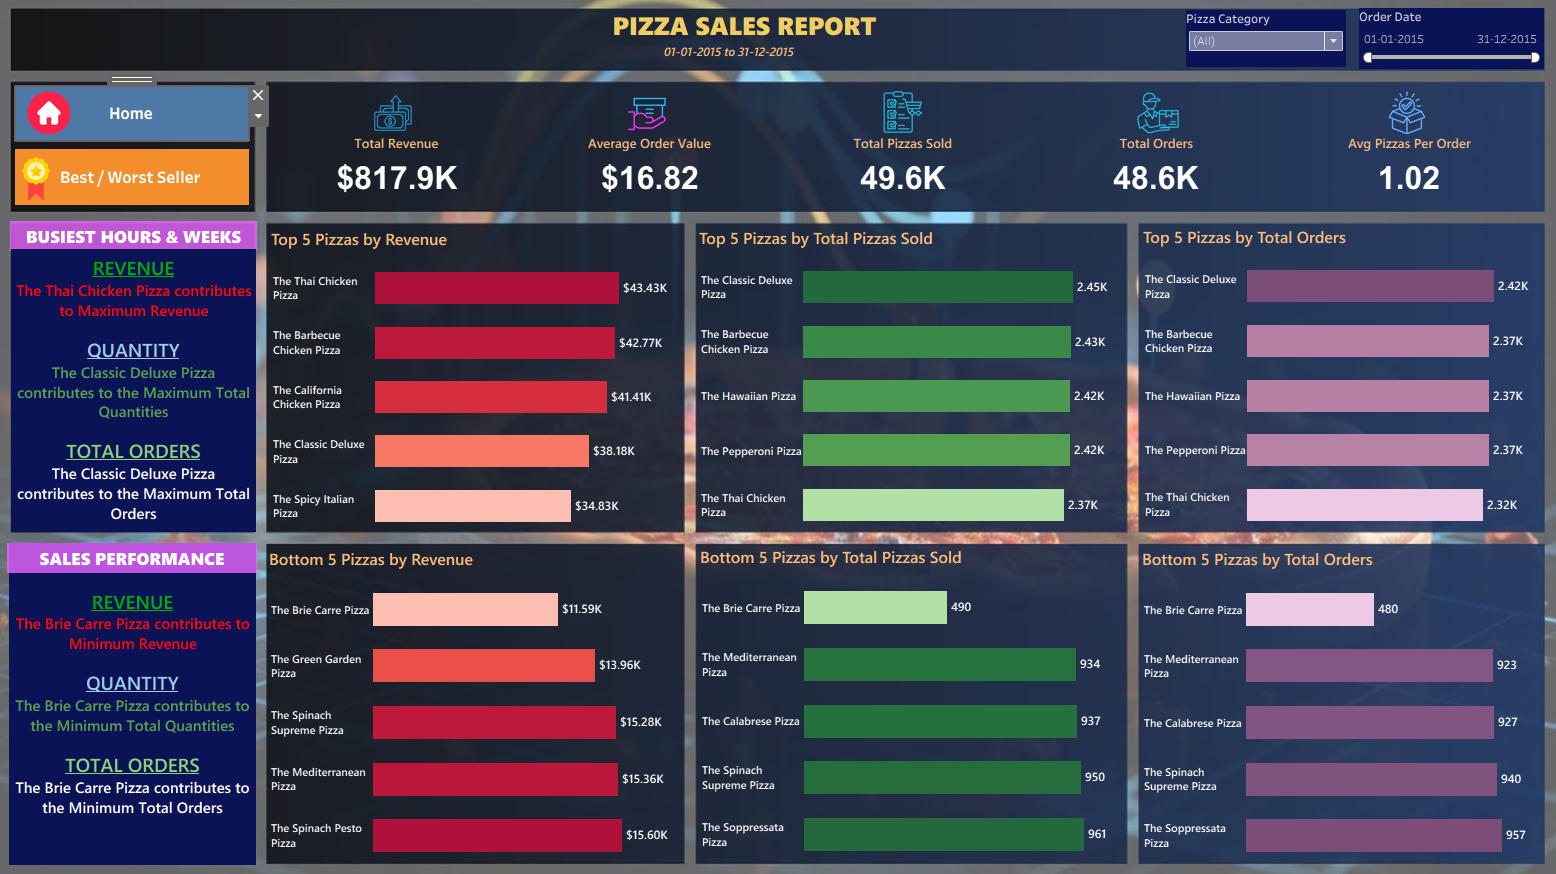

Layout of this report page (visuals, bound fields, positions):
{"tool":"tableau","page":{"name":"Best / Worst Sellers","canvas":[1600,900],"ordinal":0},"visuals":[{"type":"image","param":"Image/Pizza Tableau 2.jpg","box":[8,8,1584,884]},{"type":"text","box":[631,21,269,34]},{"type":"filter","title":"Date Range","param":"[federated.1yrtyvt0a6v30914oj9sl08k3q2n].[none:order_date:qk]","box":[1380,21,185,61]},{"type":"filter","title":"Date Range","param":"[federated.1yrtyvt0a6v30914oj9sl08k3q2n].[none:pizza_category:nk]","box":[1207,23,160,57]},{"type":"worksheet","title":"Date Range","mark":"Automatic","box":[483,53,533,24]},{"type":"dashboard-object","box":[37,100,232,53]},{"type":"image","param":"Image/order-delivery.png","box":[900,103,48,43]},{"type":"image","param":"Image/home (1).png","box":[46,104,48,43]},{"type":"image","param":"Image/profit-growth.png","box":[390,104,48,43]},{"type":"image","param":"Image/delivery-man.png","box":[1155,104,48,43]},{"type":"image","param":"Image/order (1).png","box":[1404,104,48,43]},{"type":"image","param":"Image/shipping-box.png","box":[644,105,48,43]},{"type":"worksheet","title":"KPI Banner","mark":"Automatic","box":[291,146,1266,71]},{"type":"dashboard-object","box":[36,162,234,56]},{"type":"image","param":"Image/choice.png","box":[33,170,48,43]},{"type":"text","box":[31,234,247,30]},{"type":"worksheet","title":"Top 5 Pizzas by Total Orders","mark":"Automatic","rows":["pizza_name"],"cols":["Calculation_1011580684181505"],"box":[1160,235,406,310]},{"type":"worksheet","title":"Top 5 Pizzas by Total Pizzas Sold","mark":"Automatic","rows":["pizza_name"],"cols":["Calculation_1011580684492803"],"box":[716,236,431,309]},{"type":"worksheet","title":"Top 5 Pizzas by Revenue","mark":"Automatic","rows":["pizza_name"],"cols":["Calculation_1011580683702272"],"box":[288,237,417,309]},{"type":"text","box":[32,262,245,283]},{"type":"worksheet","title":"Bottom 5 Pizzas by Total Pizzas Sold","mark":"Automatic","rows":["pizza_name"],"cols":["Calculation_1011580684492803"],"box":[717,555,431,321]},{"type":"text","box":[28,556,250,30]},{"type":"text","box":[30,556,247,322]},{"type":"worksheet","title":"Bottom 5 Pizzas by Revenue ","mark":"Automatic","rows":["pizza_name"],"cols":["Calculation_1011580683702272"],"box":[286,557,419,320]},{"type":"worksheet","title":"Bottom 5 Pizzas by Total Orders","mark":"Automatic","rows":["pizza_name"],"cols":["Calculation_1011580684181505"],"box":[1159,557,406,320]}]}

Visuals, with their boxes in screenshot pixels (x1, y1, x2, y2), scaled from the page's 1600x900 canvas onto the 1556x874 screenshot:
image: region(8, 8, 1548, 866)
text: region(614, 20, 875, 53)
"Date Range" filter: region(1342, 20, 1522, 80)
"Date Range" filter: region(1174, 22, 1329, 78)
"Date Range" worksheet: region(470, 51, 988, 75)
dashboard-object: region(36, 97, 262, 149)
image: region(875, 100, 922, 142)
image: region(45, 101, 91, 143)
image: region(379, 101, 426, 143)
image: region(1123, 101, 1170, 143)
image: region(1365, 101, 1412, 143)
image: region(626, 102, 673, 144)
"KPI Banner" worksheet: region(283, 142, 1514, 211)
dashboard-object: region(35, 157, 263, 212)
image: region(32, 165, 79, 207)
text: region(30, 227, 270, 256)
"Top 5 Pizzas by Total Orders" worksheet: region(1128, 228, 1523, 529)
"Top 5 Pizzas by Total Pizzas Sold" worksheet: region(696, 229, 1115, 529)
"Top 5 Pizzas by Revenue" worksheet: region(280, 230, 686, 530)
text: region(31, 254, 269, 529)
"Bottom 5 Pizzas by Total Pizzas Sold" worksheet: region(697, 539, 1116, 851)
text: region(27, 540, 270, 569)
text: region(29, 540, 269, 853)
"Bottom 5 Pizzas by Revenue " worksheet: region(278, 541, 686, 852)
"Bottom 5 Pizzas by Total Orders" worksheet: region(1127, 541, 1522, 852)
